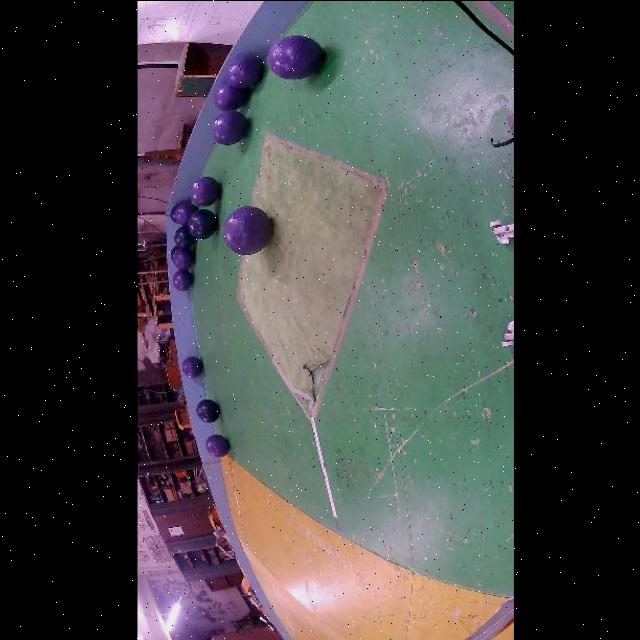B: (187, 208, 218, 238), (195, 399, 219, 422), (173, 225, 195, 248), (169, 204, 177, 222)
P: (221, 205, 271, 255), (267, 35, 322, 78), (211, 110, 248, 144), (224, 56, 262, 88), (212, 81, 248, 110), (190, 175, 220, 205), (173, 201, 197, 225), (204, 434, 229, 456), (172, 247, 194, 269), (181, 356, 202, 378), (172, 269, 193, 290)
